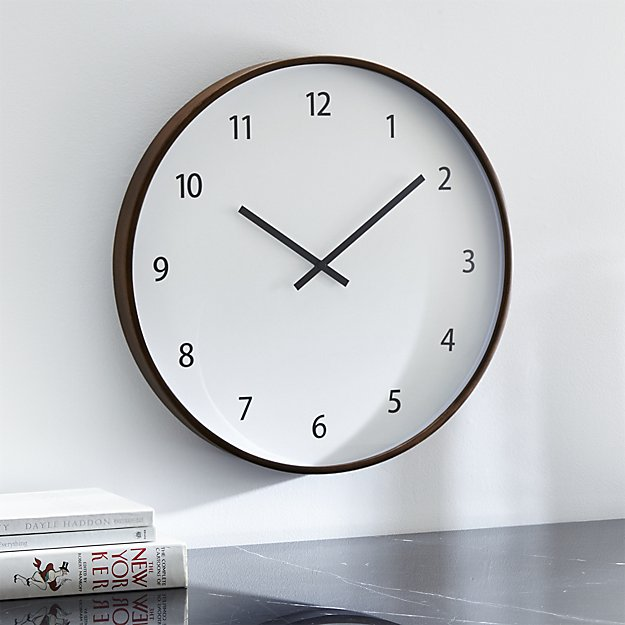clock: (131, 58, 510, 473)
